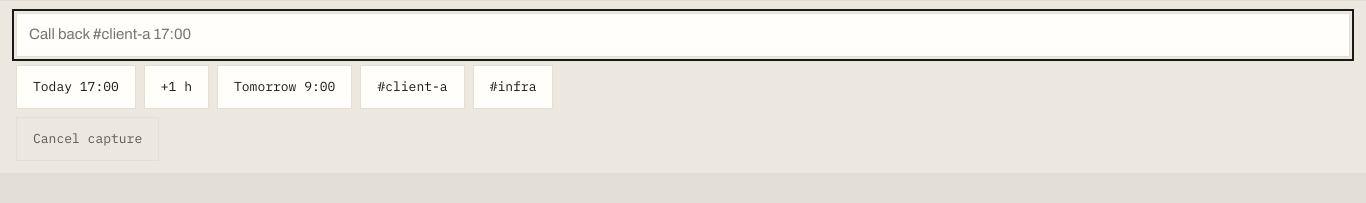
Test case: CommandBar presets (mobile, SG14) › tapping a preset inserts its token into the draft and the preview follows
This screenshot has width=1366, height=203.
Step 1. Type "Call back" into the field named "Capture a note" → (683, 35), box [16,13,1350,57]
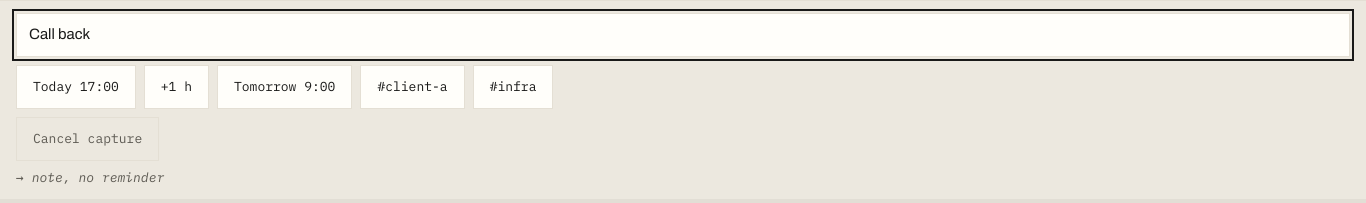
Step 2. Click the button "Today 17:00" → (76, 87), box [16,65,136,109]
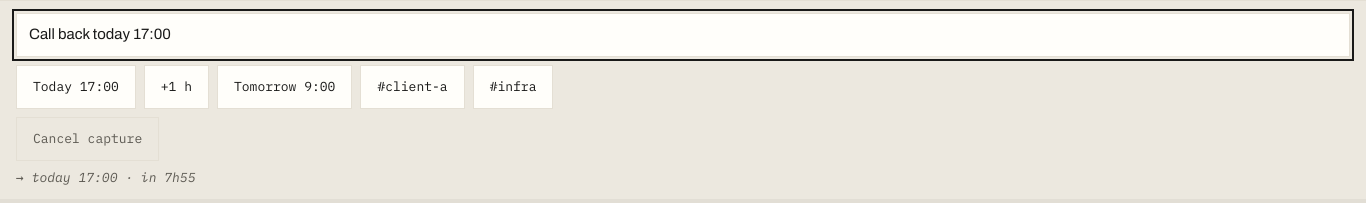
Step 3. Click the button "#client-a" → (412, 87), box [360,65,465,109]
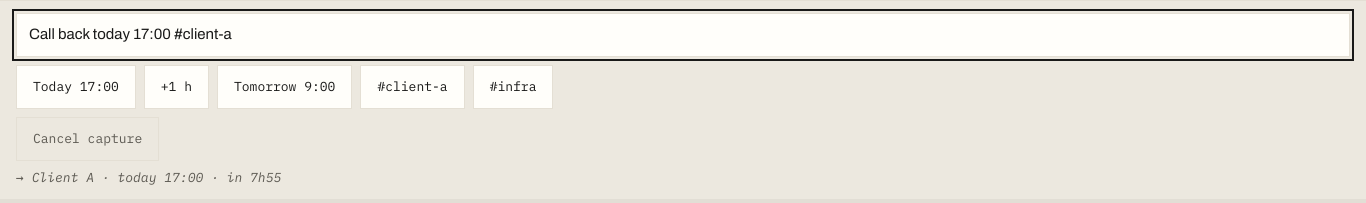
Expected: the field named "Capture a note" holds "Call back today 17:00 #client-a ", [16,13,1350,57]
Expected: the text "→ Client A · today 17:00 · in 7h55" is shown, [16,169,281,186]
